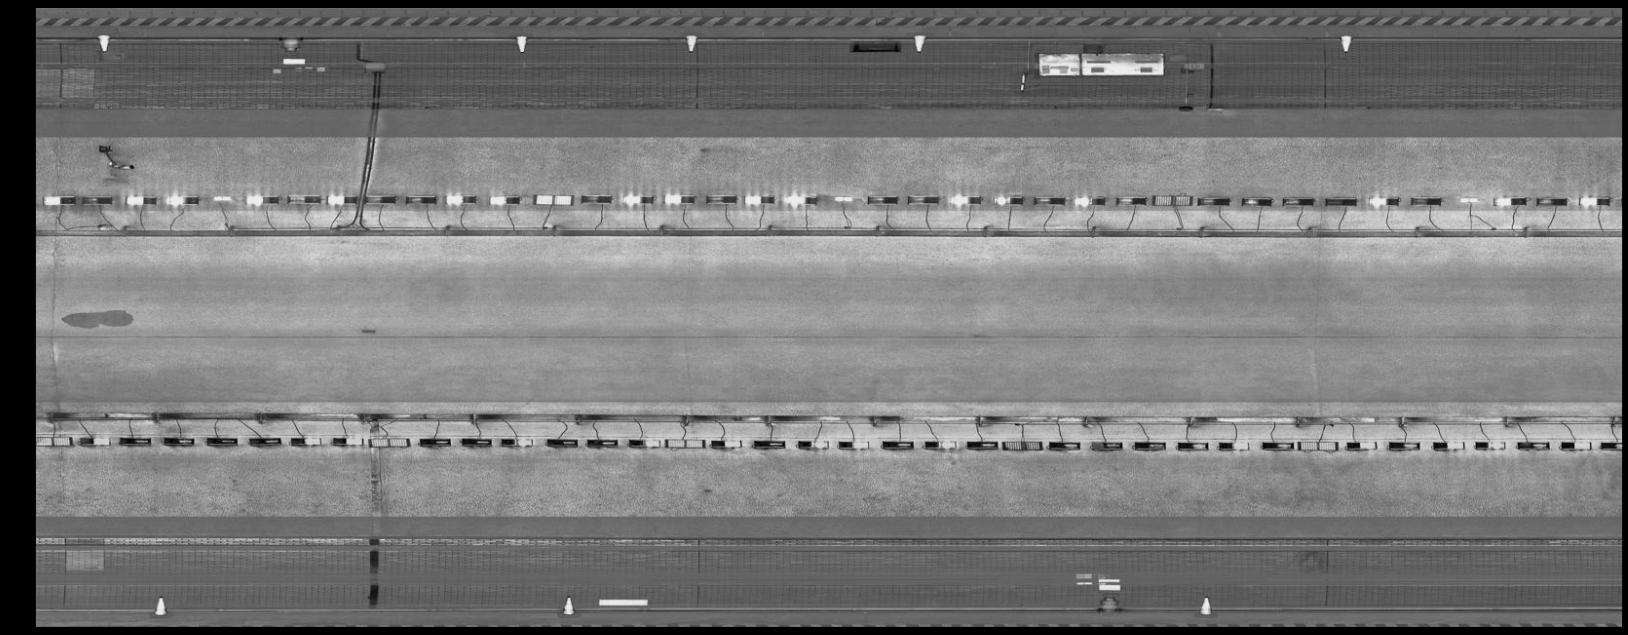light: (365, 432, 413, 450), (530, 190, 577, 208), (1294, 436, 1340, 453), (997, 436, 1046, 452), (662, 435, 708, 451), (36, 431, 75, 450), (1150, 191, 1195, 208), (782, 189, 821, 208), (620, 189, 658, 208), (1341, 436, 1382, 453), (483, 190, 522, 208), (441, 190, 480, 208), (1088, 437, 1127, 454), (1131, 436, 1169, 453), (1213, 436, 1251, 453), (1513, 437, 1553, 453), (1489, 192, 1531, 208), (323, 189, 362, 205), (750, 435, 789, 451), (1429, 436, 1468, 452), (1557, 437, 1597, 453), (73, 432, 114, 447), (919, 436, 960, 451), (702, 190, 740, 206), (708, 434, 747, 450), (793, 435, 832, 451), (456, 434, 496, 449), (543, 434, 584, 449), (740, 191, 778, 208), (1258, 437, 1296, 453), (162, 192, 201, 208), (415, 434, 455, 449), (497, 434, 537, 449), (578, 190, 615, 206), (1193, 193, 1234, 208), (1236, 193, 1277, 208), (1576, 192, 1612, 209), (1386, 437, 1422, 453), (246, 433, 284, 448), (243, 191, 283, 205), (201, 433, 242, 447), (947, 192, 984, 208), (1112, 192, 1149, 208), (288, 433, 325, 448), (1471, 437, 1509, 452), (283, 190, 323, 204), (1405, 193, 1444, 208), (114, 433, 154, 447), (833, 437, 872, 451), (1174, 437, 1209, 453), (1044, 438, 1086, 451), (1280, 193, 1319, 208), (1322, 193, 1360, 208), (1363, 193, 1402, 208), (878, 437, 917, 451), (864, 192, 901, 206), (904, 192, 942, 206), (160, 433, 197, 447), (329, 433, 367, 447), (584, 435, 621, 449), (626, 435, 663, 449), (964, 437, 1001, 451), (662, 191, 697, 206), (76, 193, 115, 206), (1071, 193, 1108, 208), (39, 193, 78, 206), (121, 193, 160, 206), (402, 192, 440, 205), (1031, 193, 1068, 206), (1534, 194, 1571, 208), (991, 192, 1025, 206), (362, 193, 401, 205), (1598, 436, 1622, 450), (1456, 194, 1482, 204), (831, 194, 856, 203), (208, 192, 234, 200)
